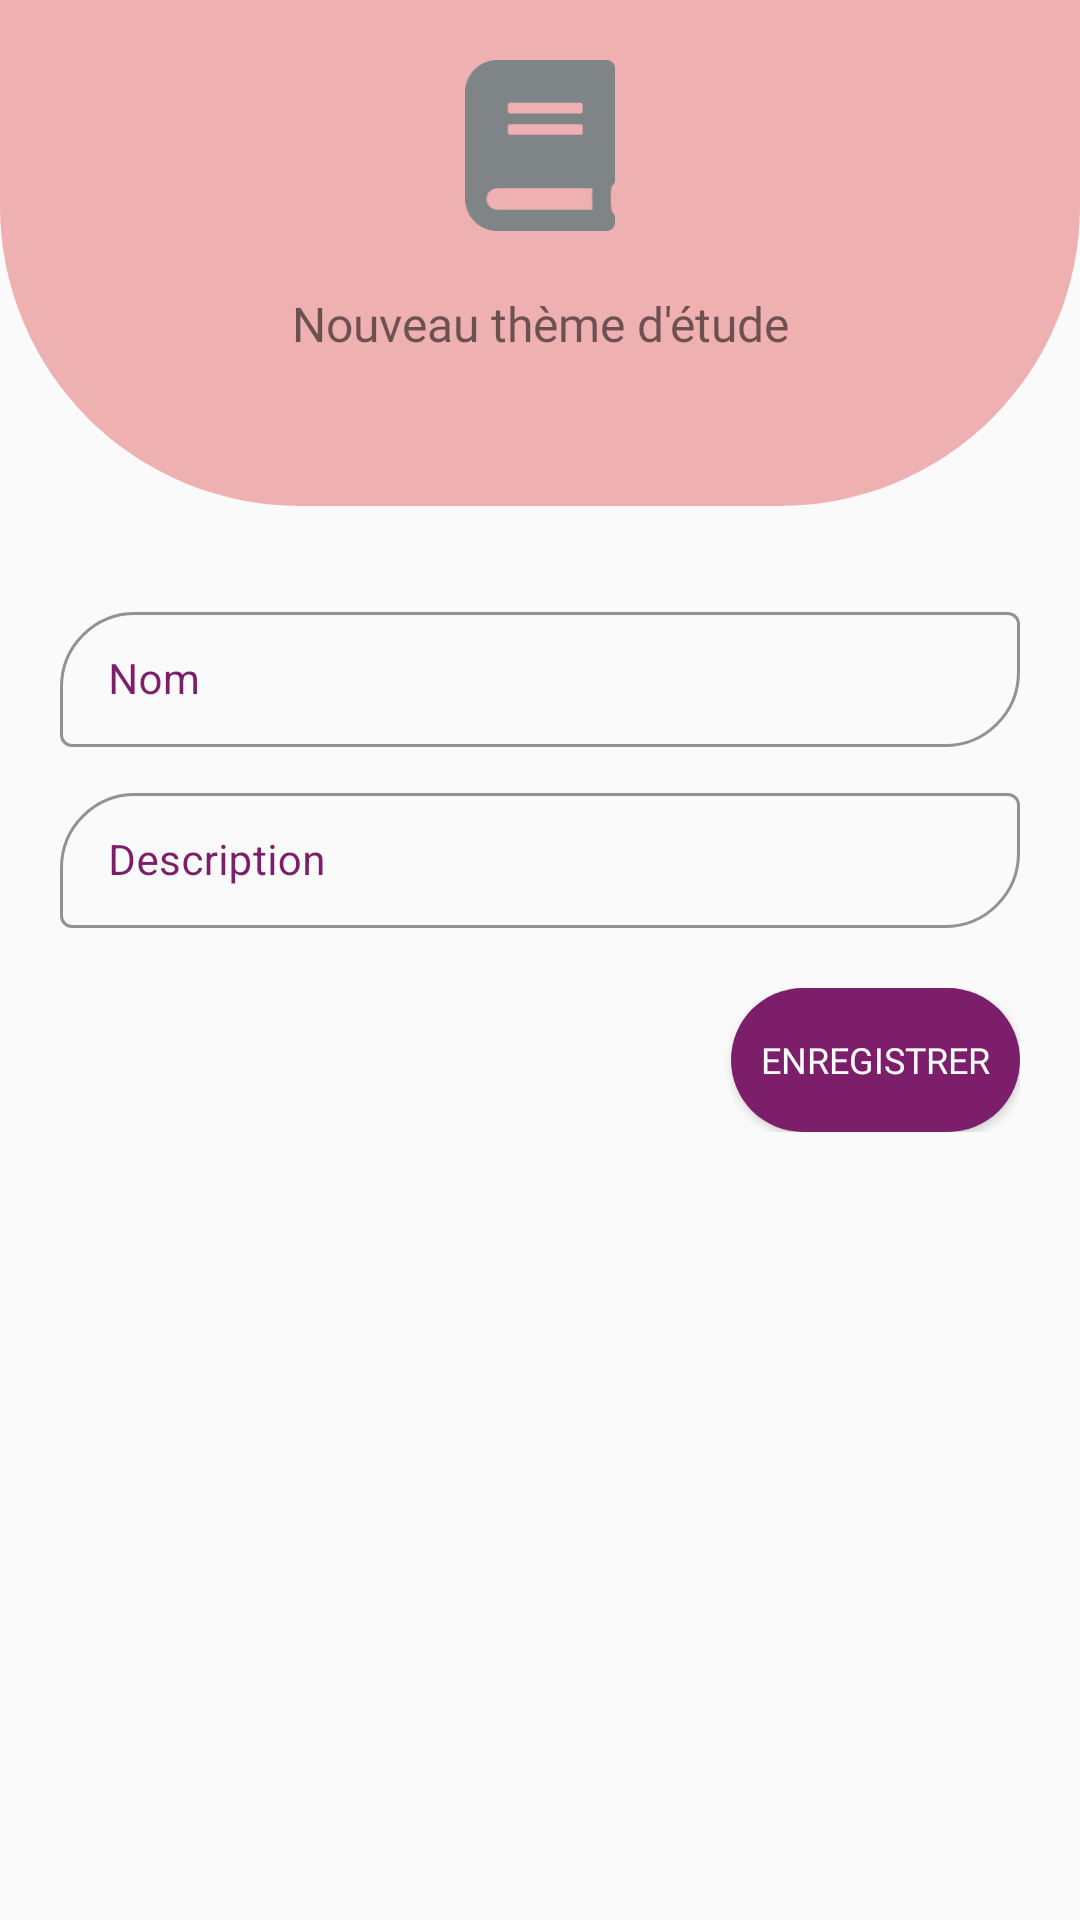

Locate icon controls on the screen. Image size 1080px×1920px, boxes as [x1=x1, y1=y1, x2=x2, y2=y2].
fas book: [x1=465, y1=60, x2=615, y2=231]
